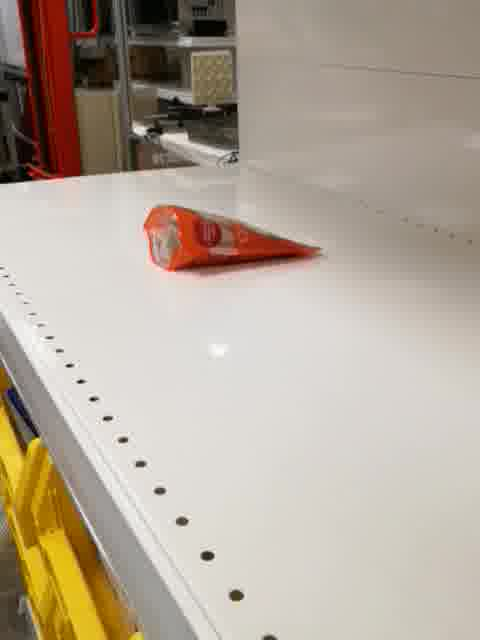whitechia: (144, 202, 324, 275)
